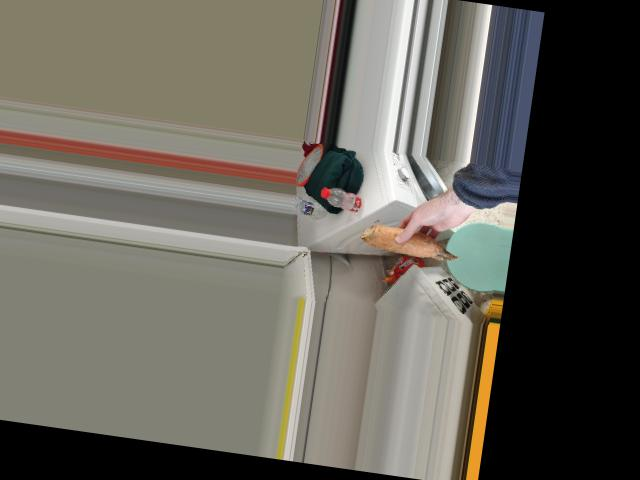sweet_potato: (368, 220, 455, 260)
